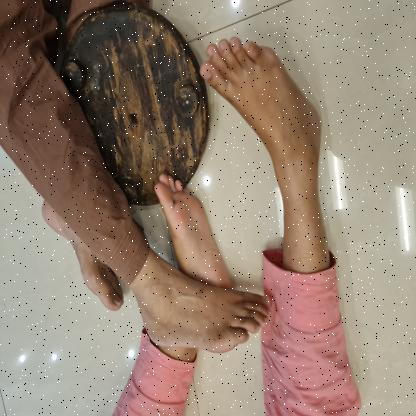leg: (196, 31, 341, 272), (128, 246, 276, 362), (38, 197, 128, 318), (151, 167, 232, 284)
